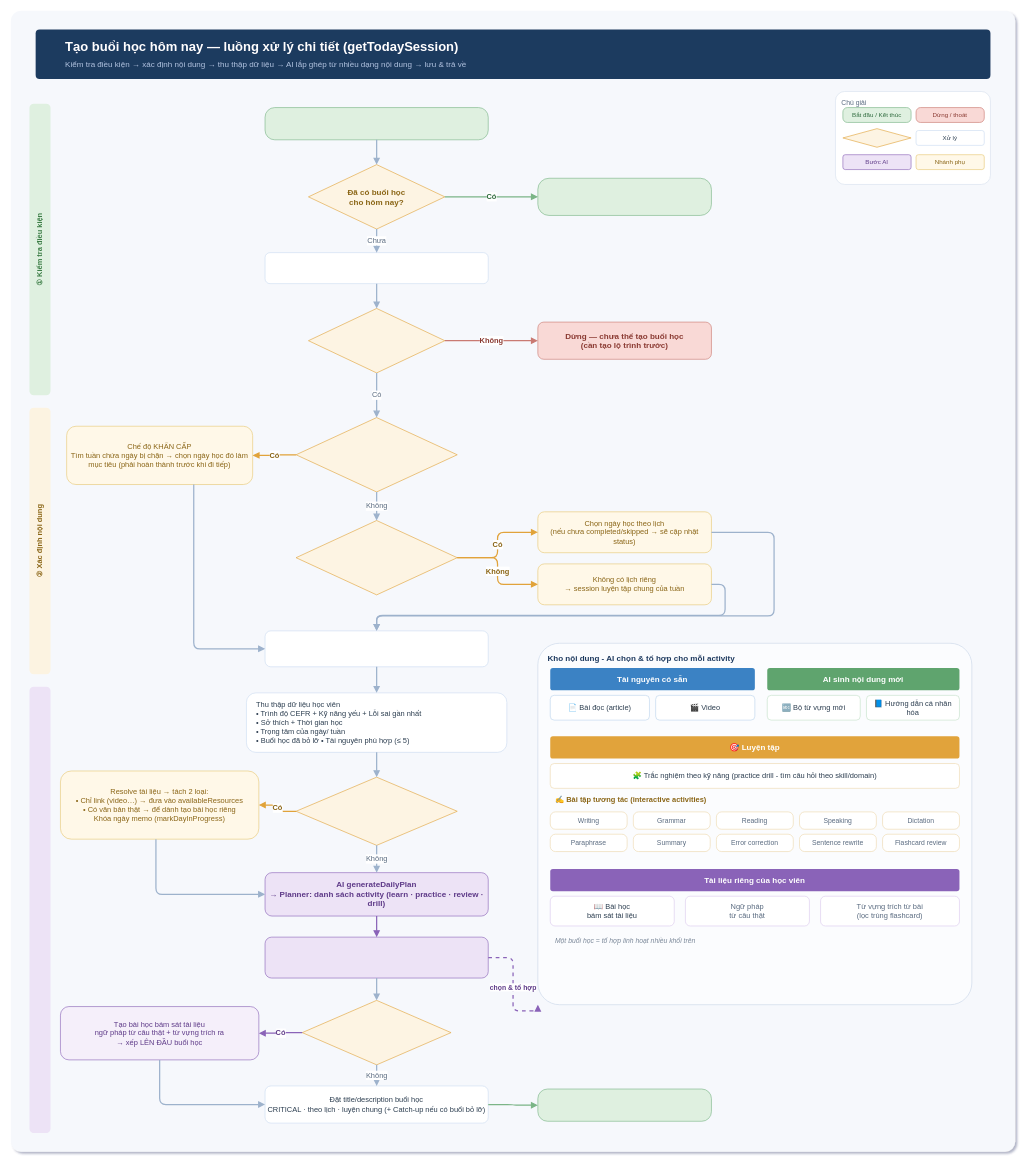
Image size: 1029x1166. Some labels were removed from this diagram. Here are the shapes that lost their labels. From the top down, the centre of each, then its label:
At point 376,123: "Học viên xin buổi học hôm nay".
At point 876,137: "Quyết định".
At point 624,196: "Trả về buổi học đã có sẵn".
At point 376,268: "Lấy roadmap đang hoạt động của học viên".
At point 376,340: "Có roadmap hợp lệ?".
At point 376,454: "Roadmap bị chặn bởi ngày học khẩn cấp? (checkRoadmapBlocked)".
At point 376,557: "Có lịch học đúng hôm nay? (tuần active)".
At point 376,648: "Đánh dấu ngày học 'in-progress' (bỏ qua nếu đã completed/skipped)".
At point 376,811: "Học viên có tài liệu riêng (memo) hôm nay?".
At point 39,909: "③ AI lắp ghép & lưu".
At point 376,957: "Với MỖI activity → lắp ghép resources (AI quyết định dùng loại nội dung nào)".
At point 376,1032: "Có tài liệu riêng kèm văn bản thật?".
At point 624,1104: "Lưu StudyPlan → trả về buổi học hôm nay".
